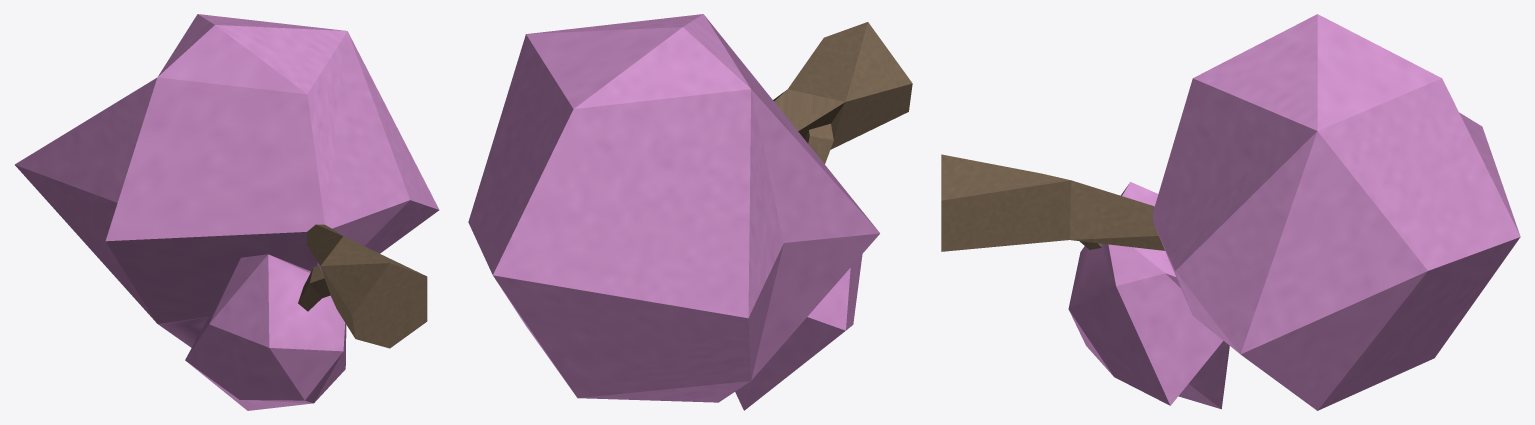
Rendered from pink_share_tree_1.FBX.
3 views of the same model, side by side, from view 1: azimuth 30°, elevation 25°; view 2: azimuth 150°, elevation 25°; view 3: azimuth 270°, elevation 25° (orthographic). The views are drawn at different scales.
Parts seen in each view (by area): view 1: tree_13.001; view 2: tree_13.001; view 3: tree_13.001.
Boxes of the visible parts, x1=… form: tree_13.001: x1=14, y1=14, x2=439, y2=410; tree_13.001: x1=468, y1=14, x2=912, y2=410; tree_13.001: x1=941, y1=14, x2=1520, y2=410.
Size of the model in its own units: 131 by 135 by 176.
